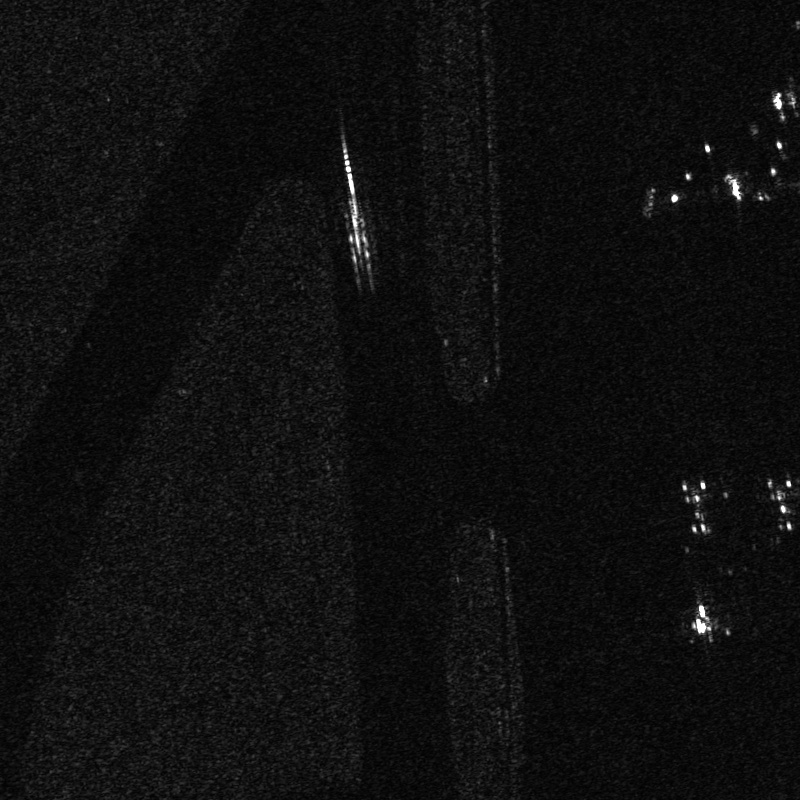ARJ21: (673, 592, 727, 648)
other: (669, 472, 729, 539), (757, 465, 799, 539)
